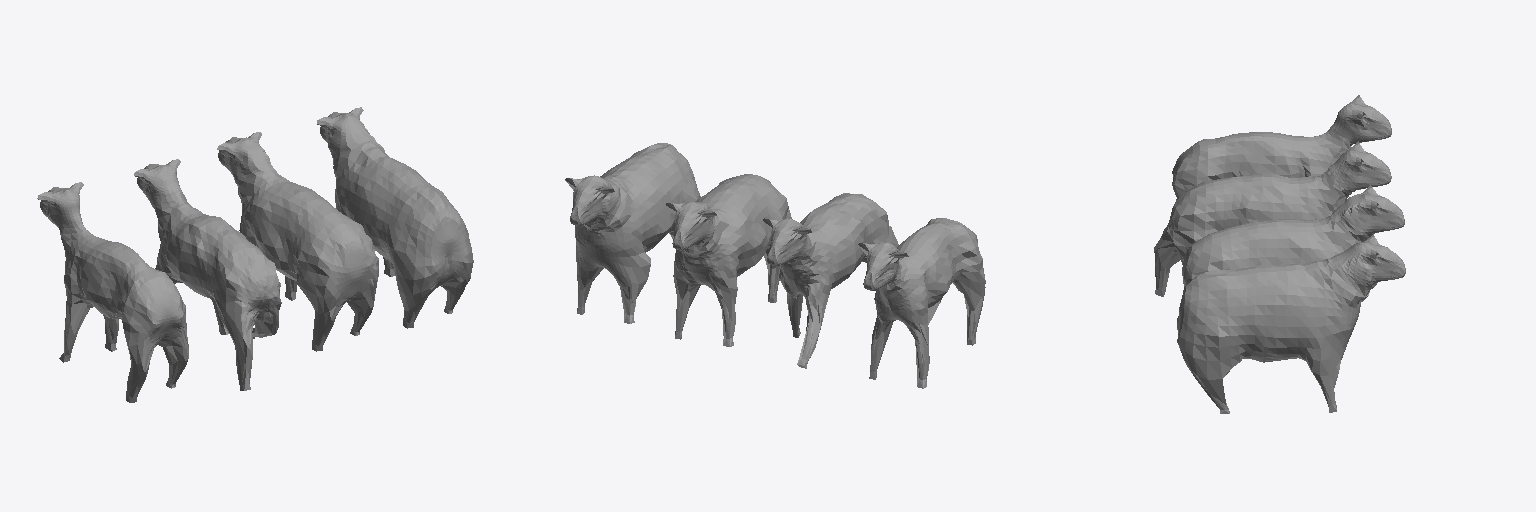
The model's file is sheepies.obj.
3 views of the same model, side by side, from view 1: azimuth 30°, elevation 25°; view 2: azimuth 150°, elevation 25°; view 3: azimuth 270°, elevation 25° (orthographic).
Visible parts, largest first — view 1: sheep_4_Sphere.003, sheep_3_Sphere.001, sheep_1_Sphere.002, Sheep_2_Sphere; view 2: sheep_4_Sphere.003, sheep_3_Sphere.001, sheep_1_Sphere.002, Sheep_2_Sphere; view 3: sheep_4_Sphere.003, Sheep_2_Sphere, sheep_3_Sphere.001, sheep_1_Sphere.002.
Boxes of the visible parts, x1,y1,x2,y2 form: sheep_4_Sphere.003: [317, 107, 473, 328]; sheep_3_Sphere.001: [217, 132, 378, 351]; sheep_1_Sphere.002: [37, 182, 188, 402]; Sheep_2_Sphere: [134, 159, 281, 390]; sheep_4_Sphere.003: [565, 143, 700, 323]; sheep_3_Sphere.001: [666, 174, 791, 346]; sheep_1_Sphere.002: [858, 218, 985, 388]; Sheep_2_Sphere: [763, 193, 898, 368]; sheep_4_Sphere.003: [1177, 234, 1405, 413]; Sheep_2_Sphere: [1154, 141, 1391, 296]; sheep_3_Sphere.001: [1182, 185, 1404, 286]; sheep_1_Sphere.002: [1172, 95, 1391, 199].
Size of the model in its own units: 4.44 by 1.84 by 2.69.